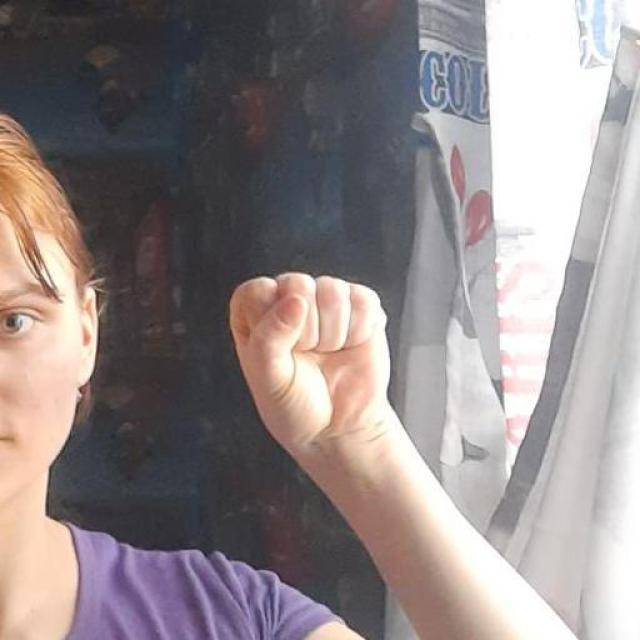hand: (228, 270, 394, 456)
